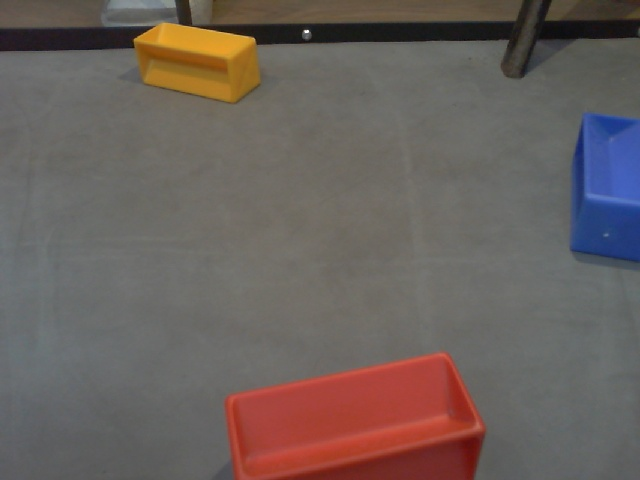BlueSample: (563, 108, 640, 269)
RedSample: (221, 352, 490, 480)
YellowSample: (131, 15, 264, 109)
